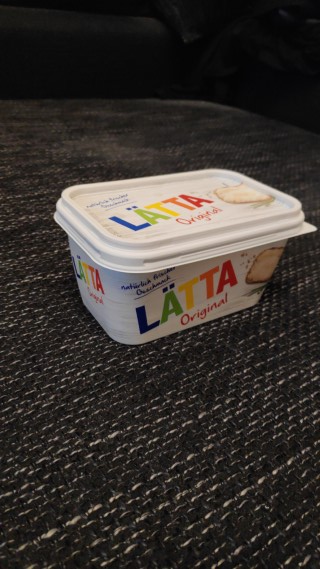laetta: (50, 167, 320, 345)
